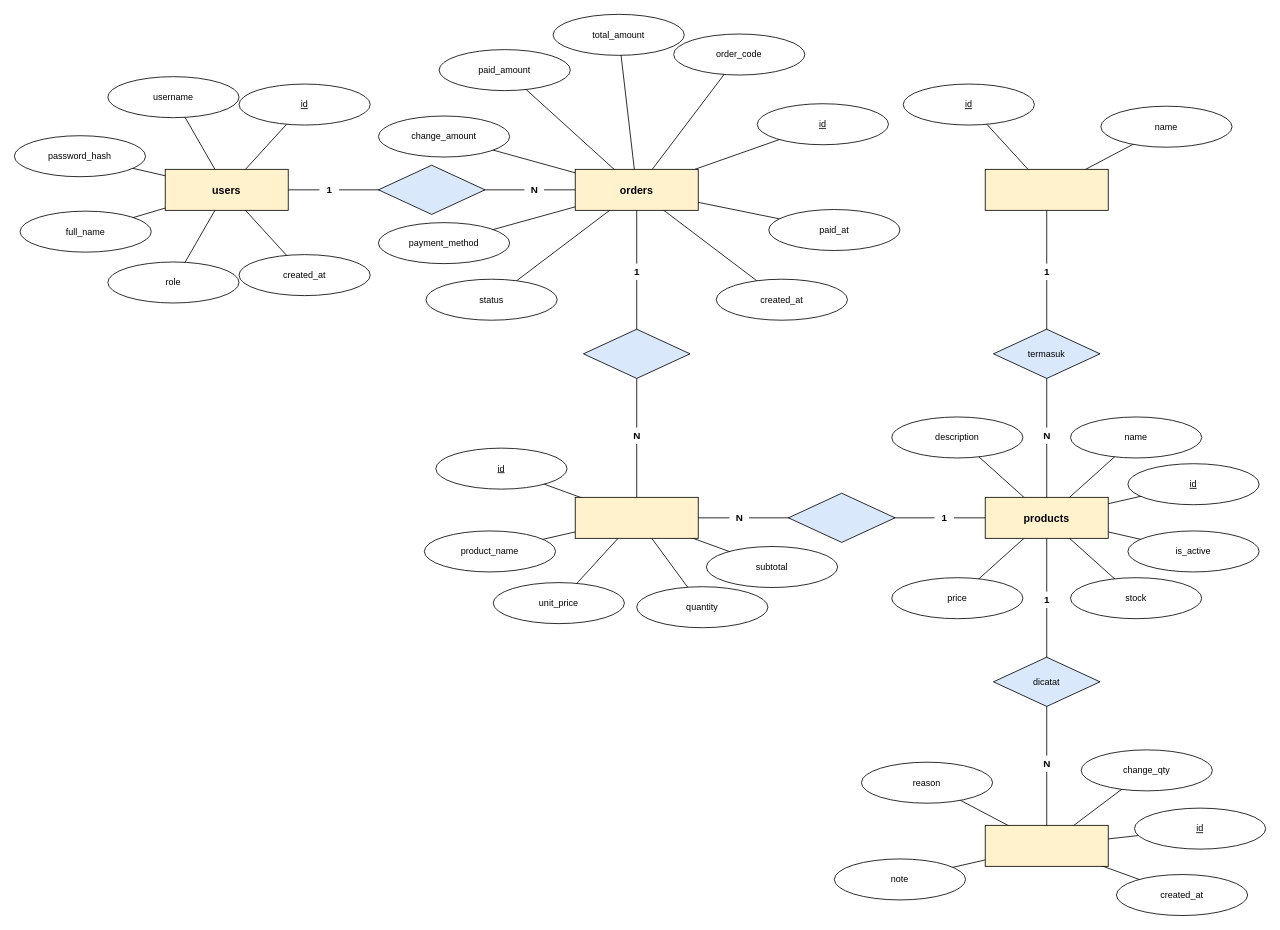
The diagram is 1280 pixels wide and 930 high, and some of its shapes have lost their labels. Each missing label, with the box of its shape:
berisi: (583, 328, 690, 378)
categories: (984, 169, 1108, 210)
dipesan: (788, 492, 895, 542)
menempatkan: (378, 164, 485, 214)
order_items: (574, 497, 698, 538)
stock_movements: (984, 825, 1108, 866)
